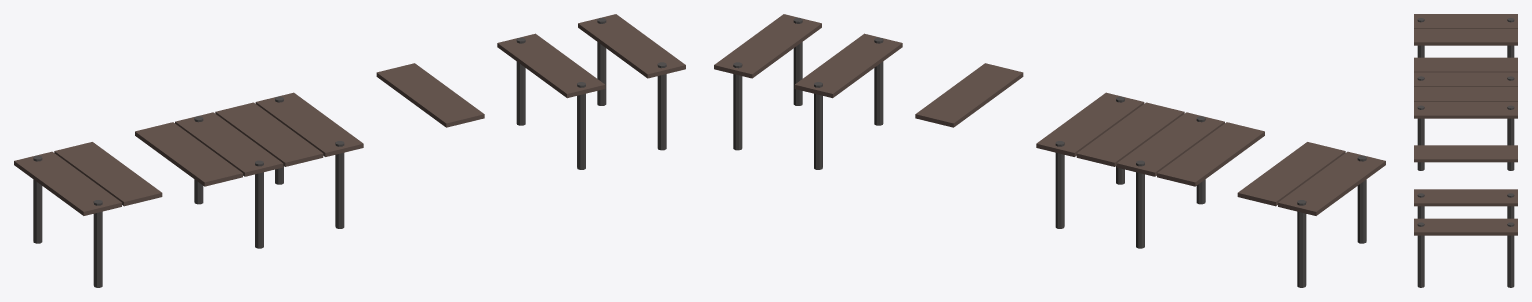
File: B_boat_landing.glb
3 renders of one model, left to right at view 1: azimuth 30°, elevation 25°; view 2: azimuth 150°, elevation 25°; view 3: azimuth 270°, elevation 25°, orthographic. The views are drawn at different scales.
Visible parts, largest first — view 1: Cube.006, Cube.002, Cube.008, Cube, Cube.007, Cube.001, Cube.004, Cube.005, Cube.003, Cylinder.004, Cylinder.008, Cylinder (+5 smaller); view 2: Cube.006, Cube.002, Cube.008, Cube, Cube.007, Cube.001, Cube.004, Cube.005, Cube.003, Cylinder.005, Cylinder.009, Cylinder.001 (+5 smaller); view 3: Cube.001, Cube.006, Cube.007, Cube.008, Cube.005, Cube.002, Cube.004, Cube.003, Cube, Cylinder.008, Cylinder.009, Cylinder.004 (+5 smaller).
Boxes of the visible parts, x1=… form: Cube.006: x1=376, y1=63, x2=484, y2=127; Cube.002: x1=135, y1=122, x2=242, y2=186; Cube.008: x1=578, y1=14, x2=685, y2=78; Cube: x1=14, y1=151, x2=121, y2=215; Cube.007: x1=497, y1=33, x2=605, y2=98; Cube.001: x1=54, y1=142, x2=162, y2=206; Cube.004: x1=215, y1=102, x2=323, y2=166; Cube.005: x1=255, y1=92, x2=363, y2=156; Cube.003: x1=175, y1=112, x2=283, y2=176; Cylinder.004: x1=335, y1=141, x2=344, y2=228; Cylinder.008: x1=657, y1=62, x2=666, y2=150; Cylinder: x1=93, y1=200, x2=102, y2=287; Cube.006: x1=915, y1=63, x2=1023, y2=127; Cube.002: x1=1157, y1=122, x2=1264, y2=186; Cube.008: x1=714, y1=14, x2=821, y2=78; Cube: x1=1278, y1=151, x2=1385, y2=215; Cube.007: x1=794, y1=33, x2=902, y2=98; Cube.001: x1=1237, y1=142, x2=1345, y2=206; Cube.004: x1=1076, y1=102, x2=1184, y2=166; Cube.005: x1=1036, y1=92, x2=1144, y2=156; Cube.003: x1=1116, y1=112, x2=1224, y2=176; Cylinder.005: x1=1055, y1=141, x2=1064, y2=228; Cylinder.009: x1=733, y1=62, x2=742, y2=150; Cylinder.001: x1=1297, y1=200, x2=1306, y2=287; Cube.001: x1=1414, y1=28, x2=1517, y2=45; Cube.006: x1=1414, y1=145, x2=1517, y2=162; Cube.007: x1=1414, y1=189, x2=1517, y2=206; Cube.008: x1=1414, y1=218, x2=1517, y2=235; Cube.005: x1=1414, y1=101, x2=1517, y2=118; Cube.002: x1=1414, y1=57, x2=1517, y2=72; Cube.004: x1=1414, y1=87, x2=1517, y2=101; Cube.003: x1=1414, y1=72, x2=1517, y2=86; Cube: x1=1414, y1=14, x2=1517, y2=28; Cylinder.008: x1=1417, y1=222, x2=1424, y2=287; Cylinder.009: x1=1507, y1=222, x2=1514, y2=287; Cylinder.004: x1=1417, y1=105, x2=1424, y2=170.
Bounding box in the file's own units: 29.9 × 4 × 6.
